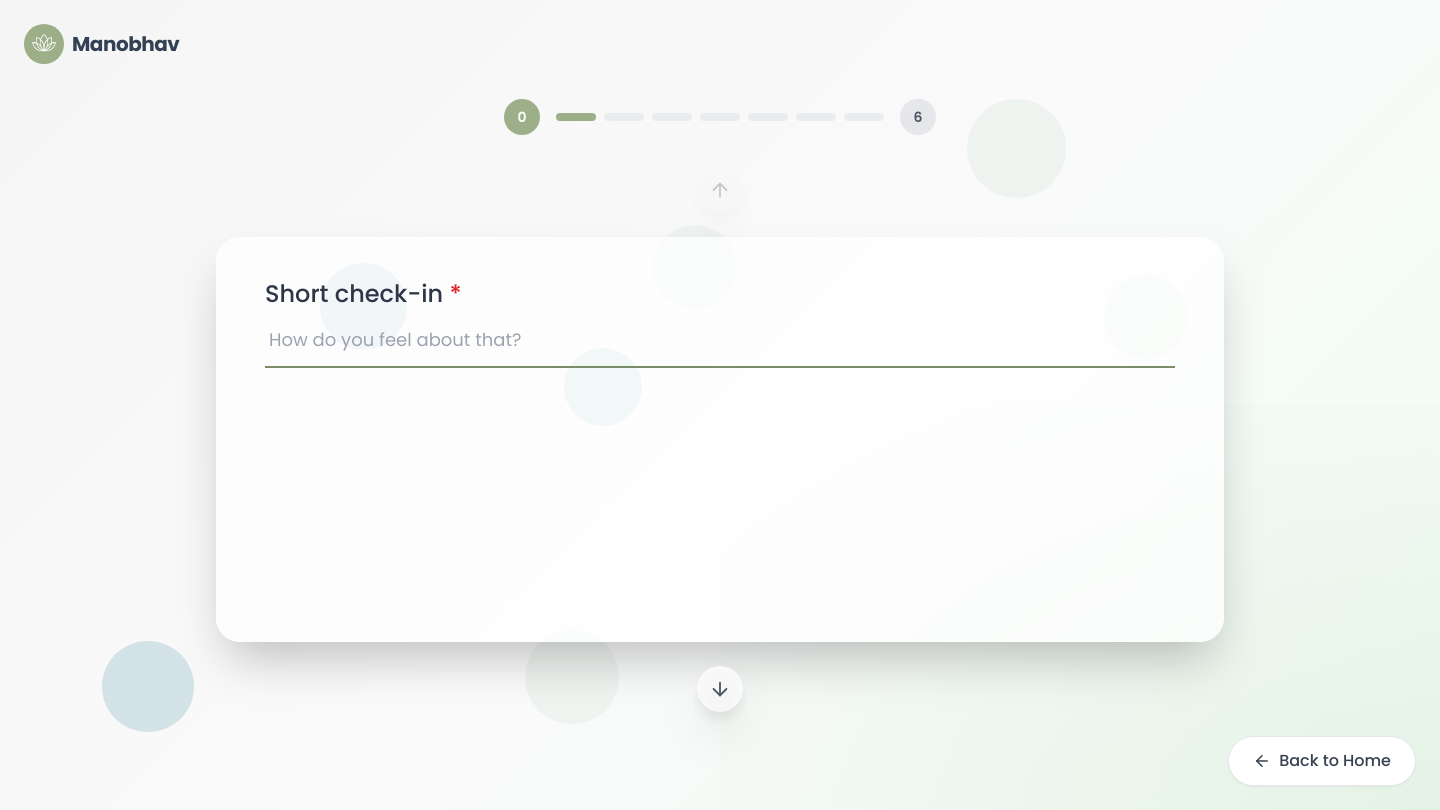
patient journey intake inputs › saves a clicked radio value and advances to the next question without a separate next click
The image size is (1440, 810).
Check: the text "Short check-in" is shown, box [265, 276, 443, 310]
Type "Feeling steady" into the field named "short check-in".
click(720, 346); type("Feeling steady")  # box [265, 326, 1175, 368]
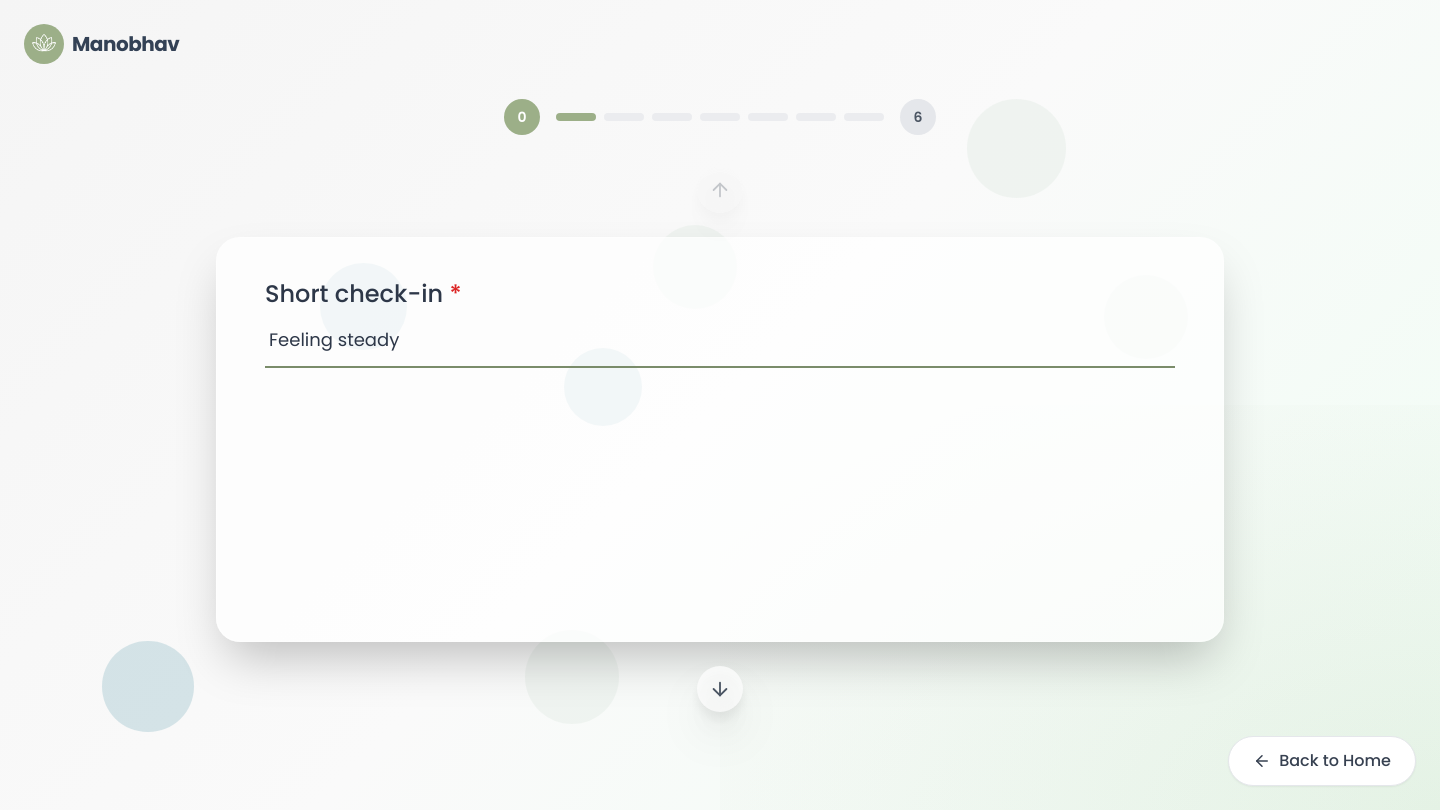
Click the button named "next question".
click(720, 688)  # box [697, 666, 743, 712]
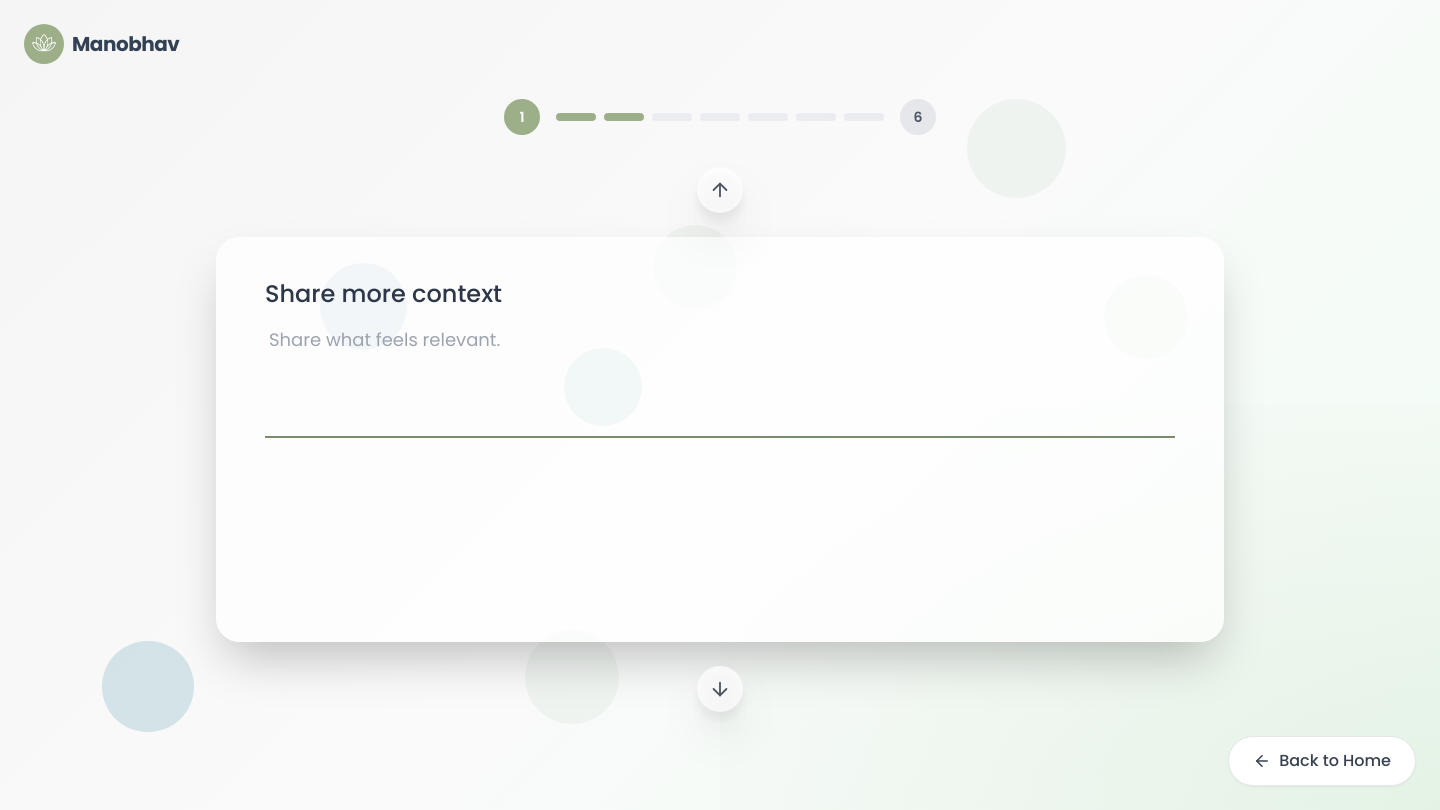
Check: the text "Share more context" is shown, box [265, 276, 502, 310]
Click the button named "next question".
click(720, 688)  # box [697, 666, 743, 712]
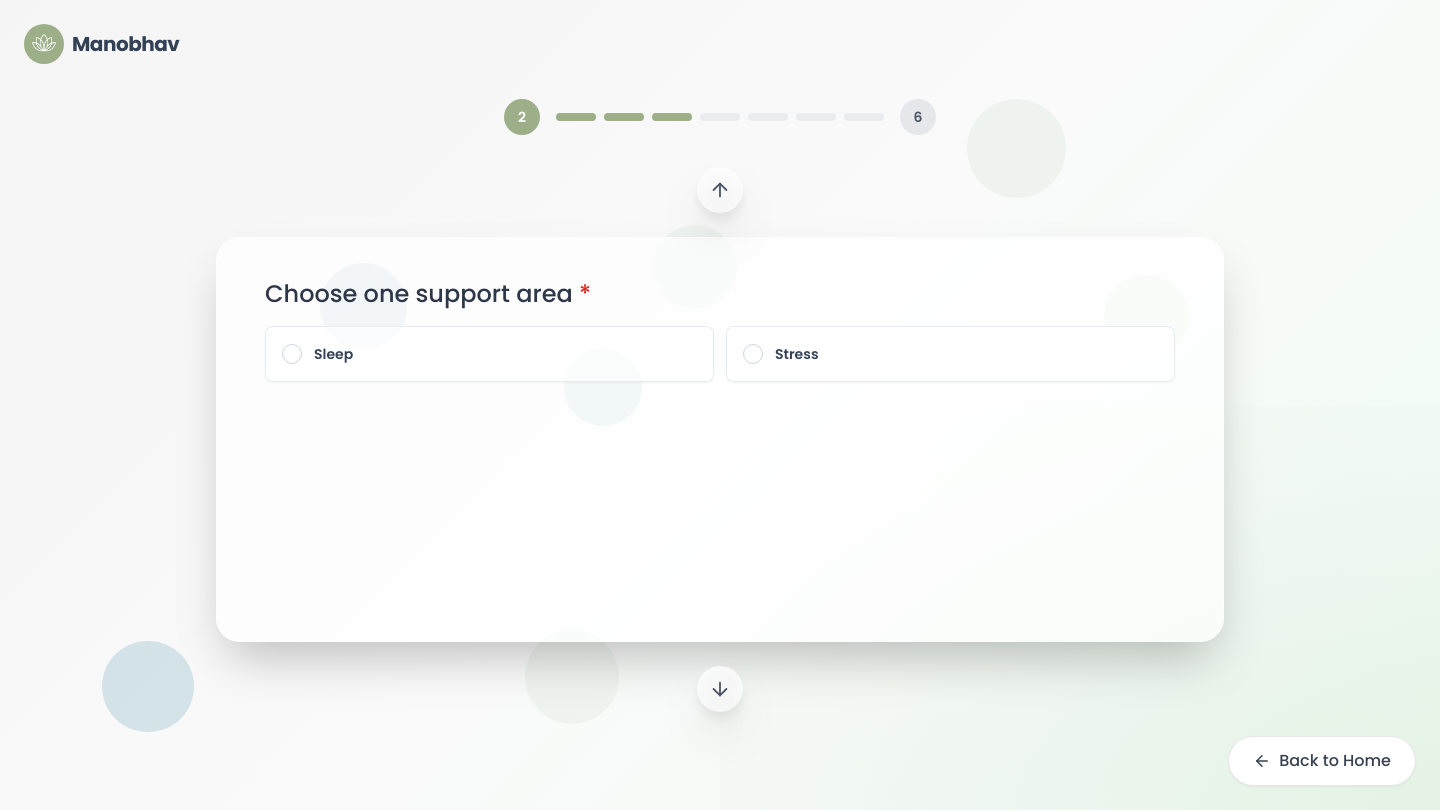
Check: the text "Choose one support area" is shown, box [265, 276, 573, 310]
Click the radio button labelled "Sleep".
click(334, 354)  # box [265, 326, 714, 382]
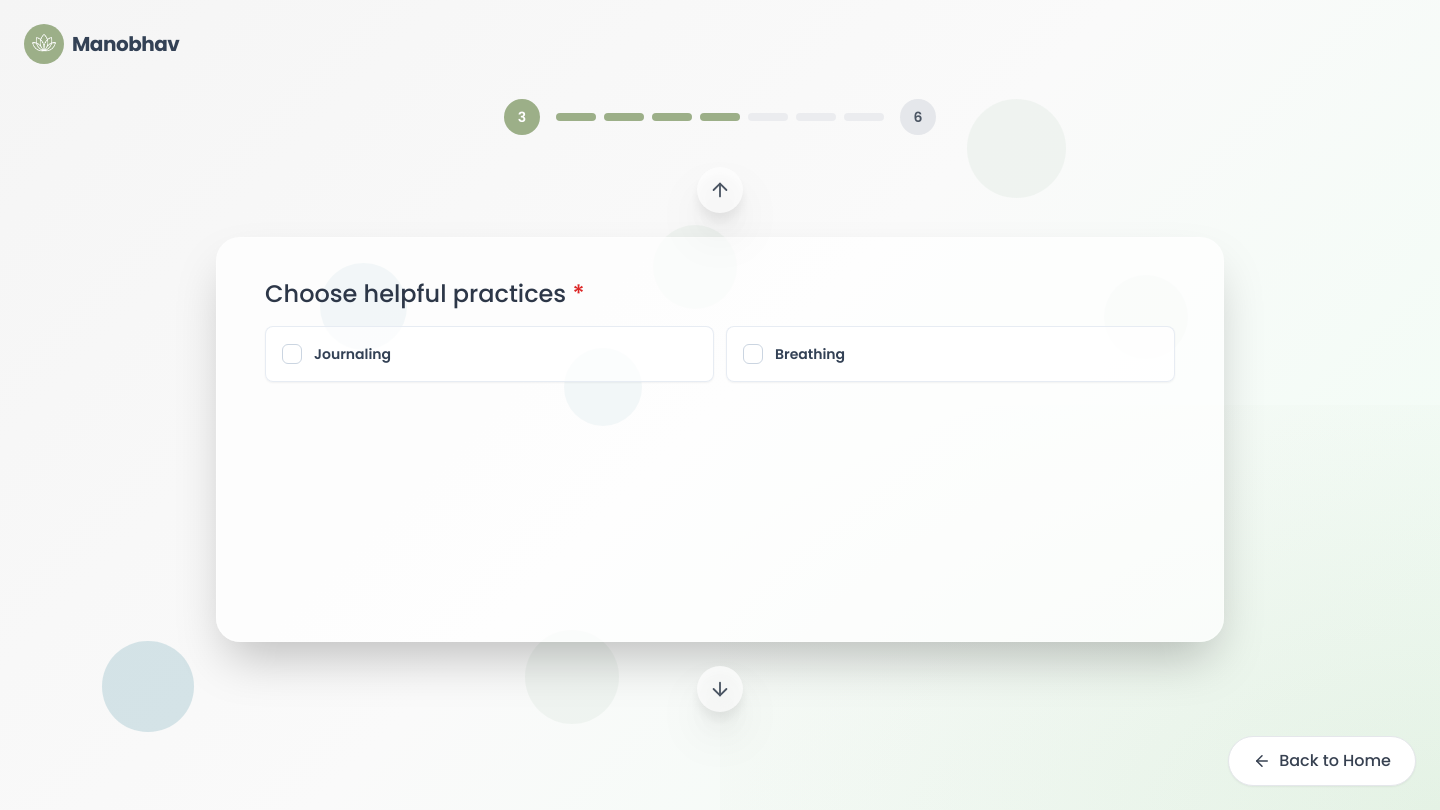
Check: the text "Choose helpful practices" is shown, box [265, 276, 566, 310]
